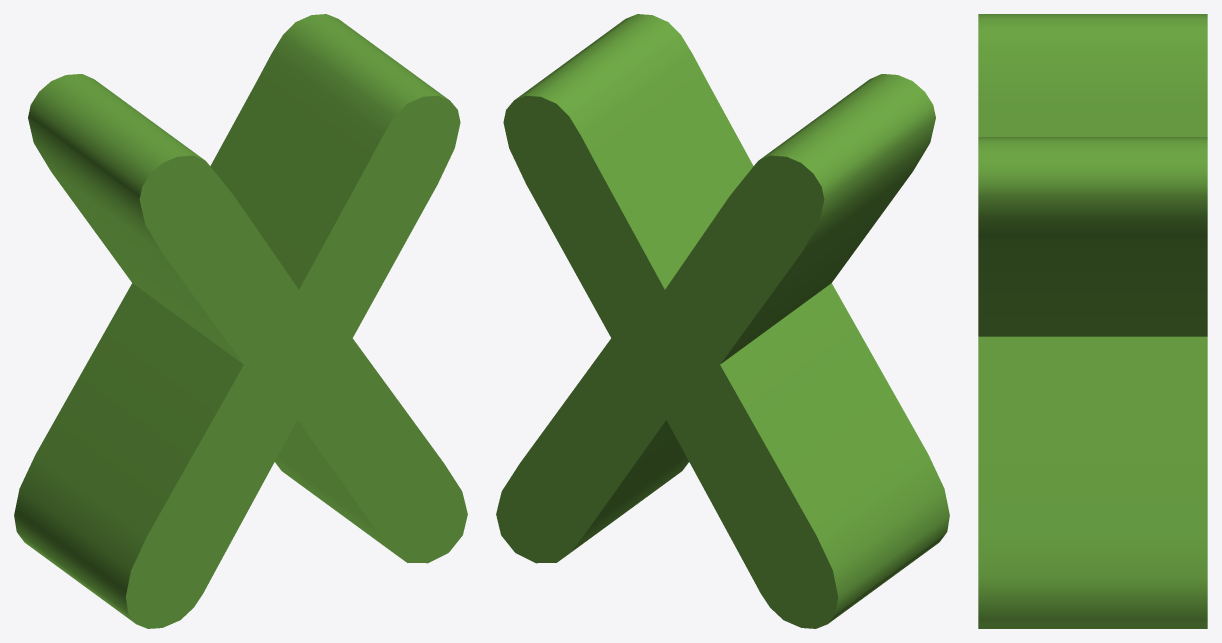
3 views of the same model, side by side, from view 1: azimuth 30°, elevation 25°; view 2: azimuth 150°, elevation 25°; view 3: azimuth 270°, elevation 25° (orthographic). The views are drawn at different scales.
Visible parts, largest first — view 1: X; view 2: X; view 3: X.
Boxes of the visible parts, bbox=[...] form: X: bbox=[14, 14, 467, 628]; X: bbox=[496, 14, 949, 628]; X: bbox=[978, 14, 1207, 628].
Size of the model in its own units: 0.3893 by 0.5084 by 0.22.
